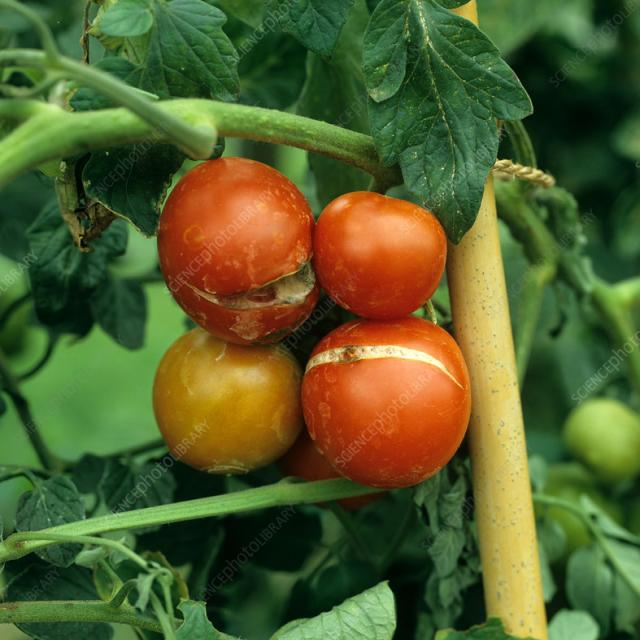kirmizi: (303, 176, 482, 502)
sari: (144, 324, 301, 482)
